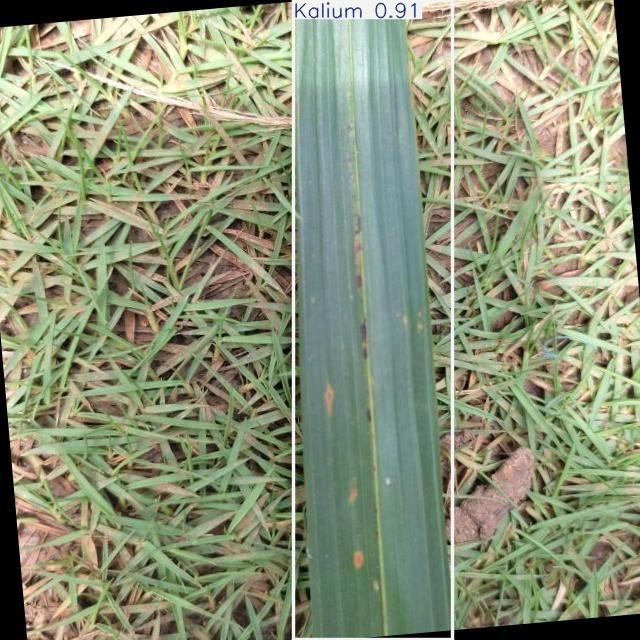Kalium: (294, 0, 452, 640)
